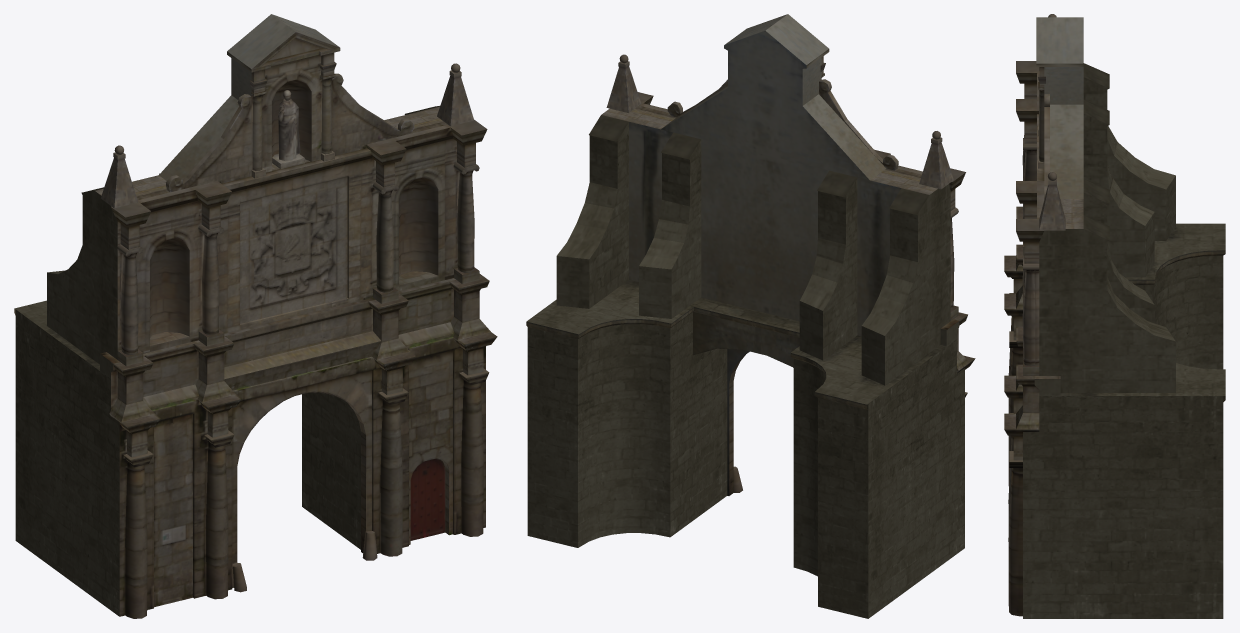
The model's file is ruin.glb.
3 views of the same model, side by side, from view 1: azimuth 30°, elevation 25°; view 2: azimuth 150°, elevation 25°; view 3: azimuth 270°, elevation 25° (orthographic). The views are drawn at different scales.
Parts seen in each view (by area): view 1: porte; view 2: porte; view 3: porte.
Boxes of the visible parts, <box> form: porte: <box>14,14,497,618</box>; porte: <box>526,14,975,618</box>; porte: <box>1004,14,1225,618</box>.
Bounding box in the file's own units: 8.73 × 12.07 × 4.7.
1 material, 1 textured.
